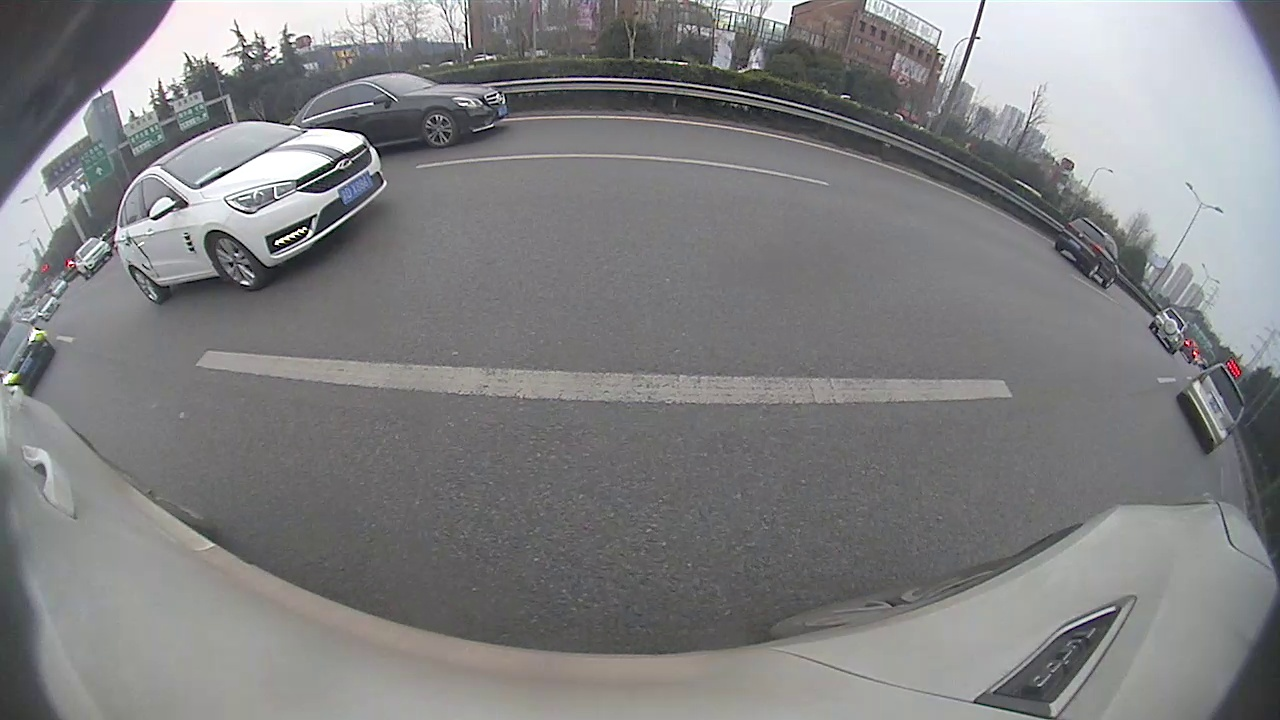car: (106, 120, 387, 306), (289, 71, 507, 151), (1176, 362, 1247, 457), (1054, 214, 1121, 291), (0, 317, 53, 399), (1147, 305, 1190, 356), (71, 237, 114, 280)
front: (211, 231, 277, 293), (421, 109, 459, 149), (1100, 274, 1116, 290)
rear: (130, 266, 172, 306), (1086, 261, 1102, 279)
